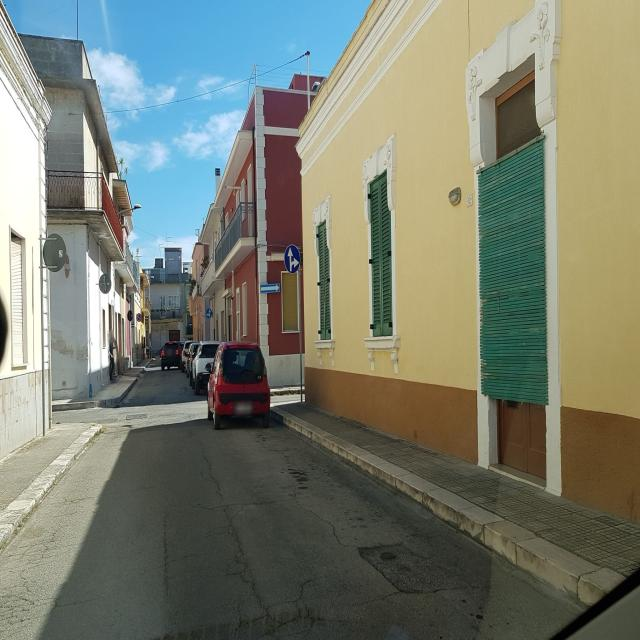forb_stopping: (137, 313, 141, 322)
